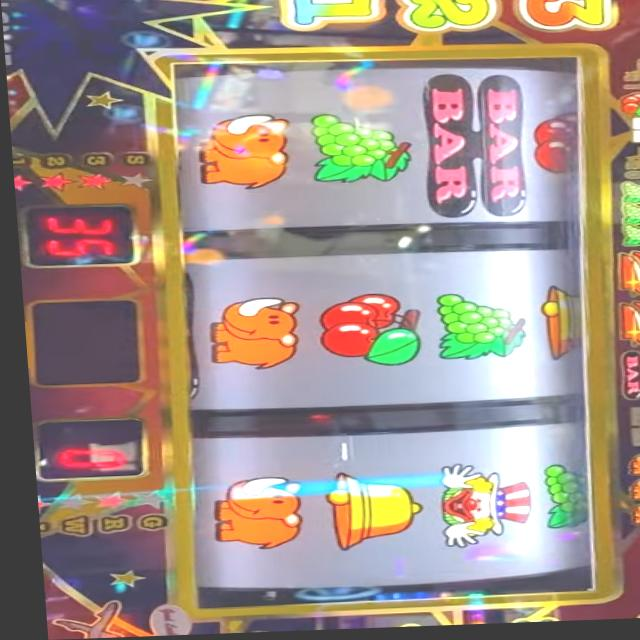bar: (413, 75, 530, 223), (608, 354, 640, 406)
bell: (316, 472, 419, 555), (529, 288, 581, 368)
cherry: (310, 295, 418, 371), (530, 113, 576, 180), (616, 96, 640, 123)
clown: (425, 464, 528, 555)
display: (150, 60, 614, 610)
elephant: (191, 115, 291, 194), (200, 298, 301, 375), (201, 476, 299, 554), (619, 456, 640, 481), (620, 481, 640, 507), (621, 505, 640, 530)
grape: (304, 113, 416, 190), (425, 294, 525, 367), (528, 465, 584, 536), (611, 185, 640, 210), (616, 230, 640, 252), (616, 210, 640, 230)
z: (610, 255, 640, 302), (611, 305, 640, 350)
